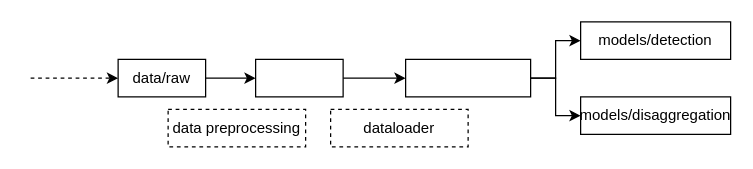
This 753x169 diagram has some shape labels left out. Each missing label, with the centre of its shape:
"data/clean" belongs at pixel 298 77.
"data/model_inut" belongs at pixel 467 77.
